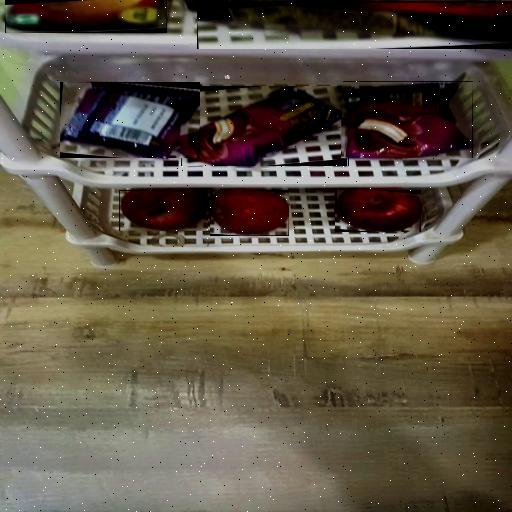Apple: (119, 190, 208, 231), (210, 190, 289, 236), (335, 190, 421, 232)
Choco Fills: (197, 1, 512, 49), (5, 0, 167, 33)
Choco Pie: (182, 86, 350, 166), (60, 82, 200, 158), (343, 81, 473, 158)
